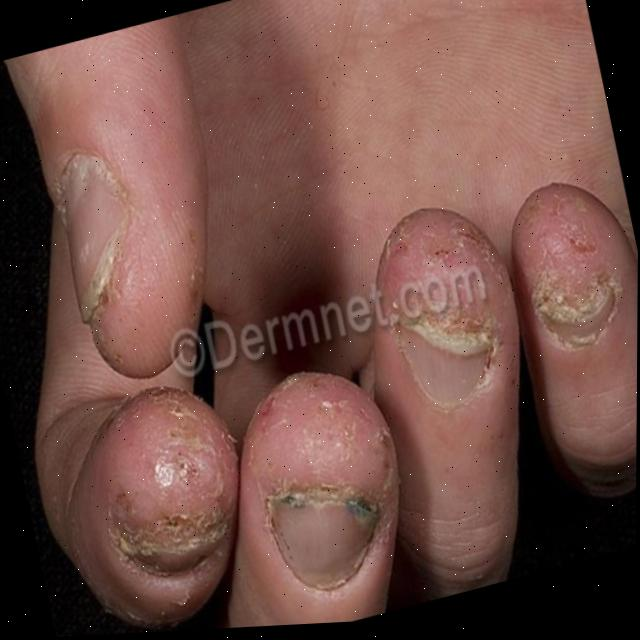Eczema: (54, 371, 253, 611), (245, 332, 420, 560), (34, 123, 207, 340), (385, 192, 525, 398), (516, 160, 639, 340)
